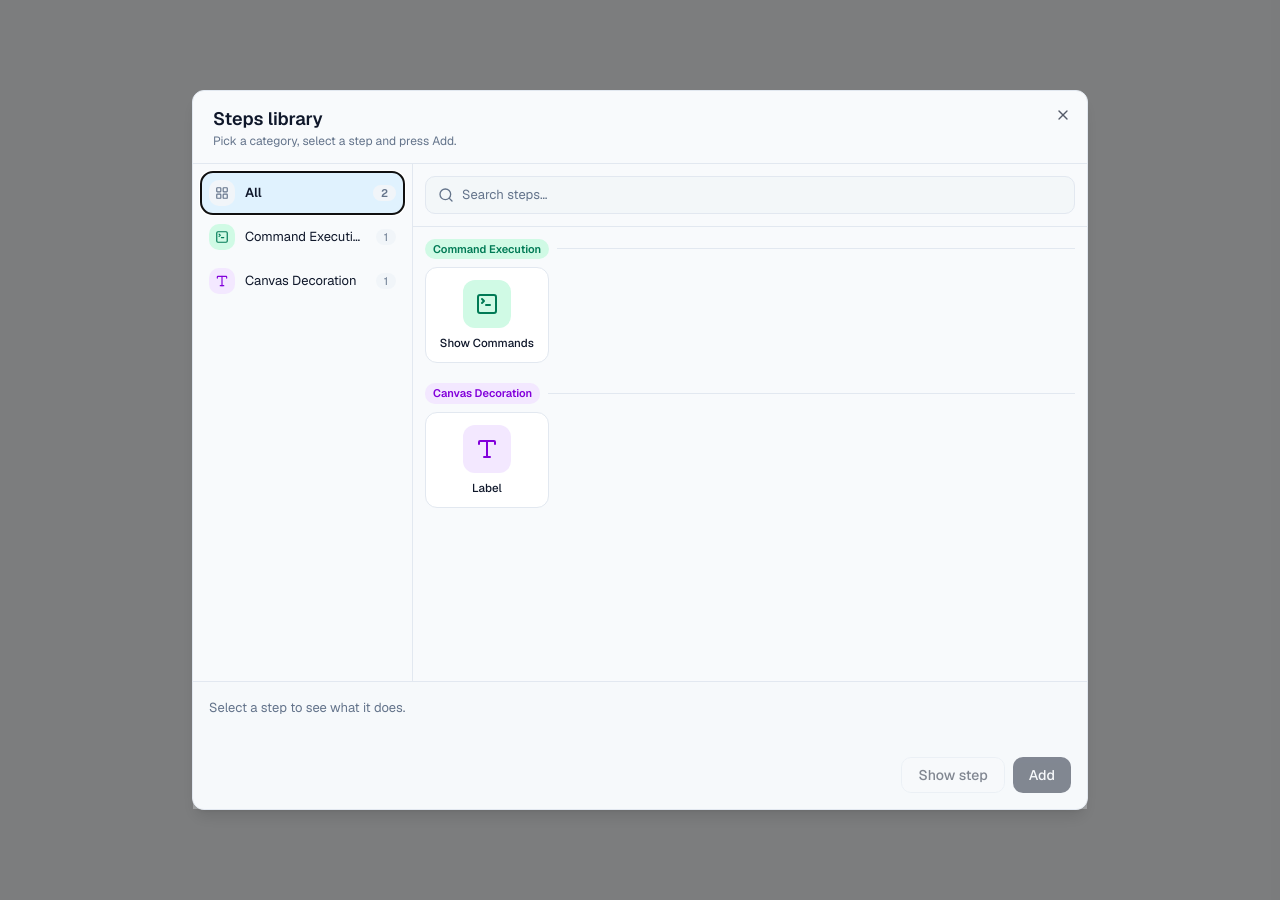
StepLibraryDialog › filters by search text
Type "label" into the field labelled "Search steps".
click(762, 195); type("label")  # box [462, 185, 1062, 204]
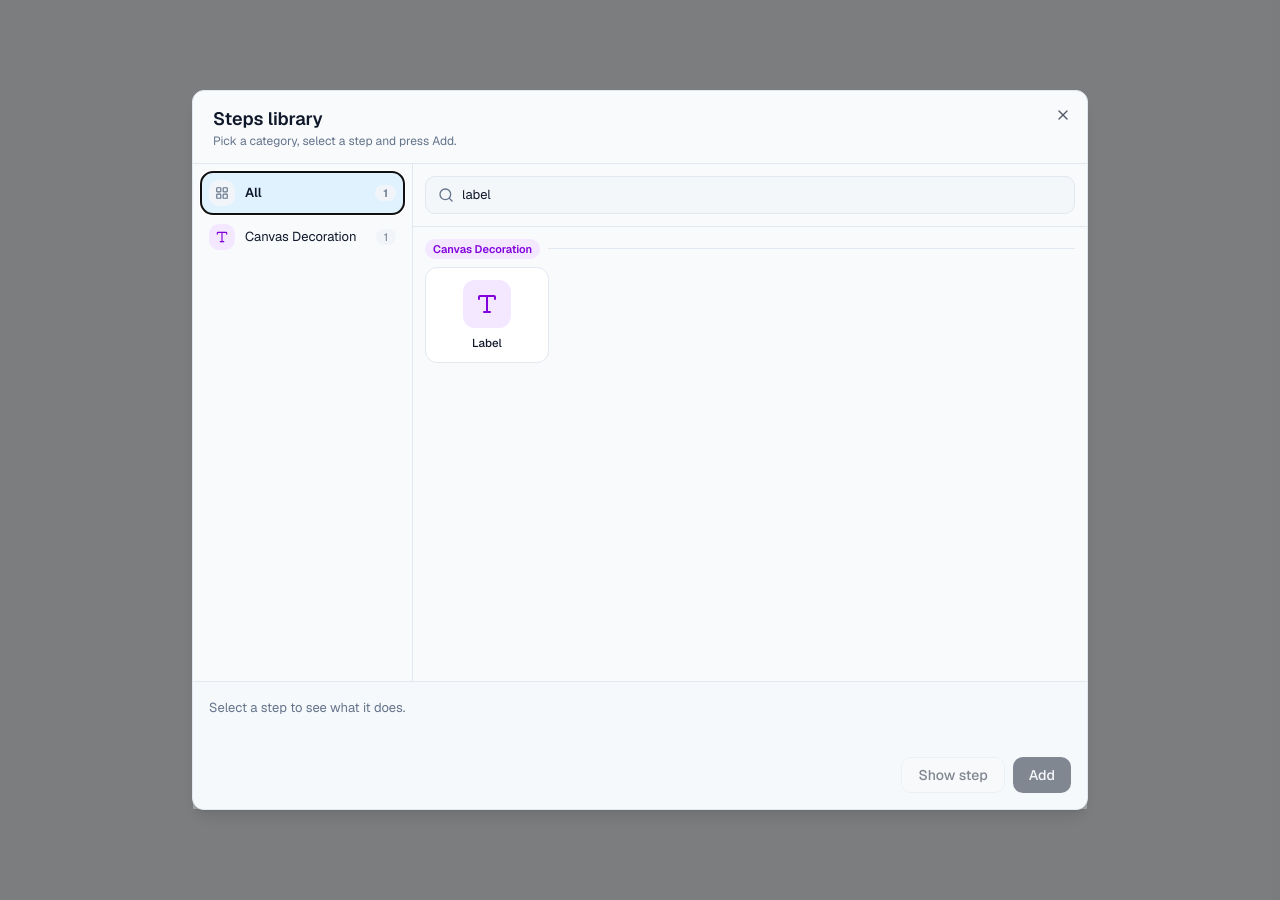
Expected: the button "Label" is shown, [425, 267, 549, 363]
Expected: the button "Show Commands" is gone
